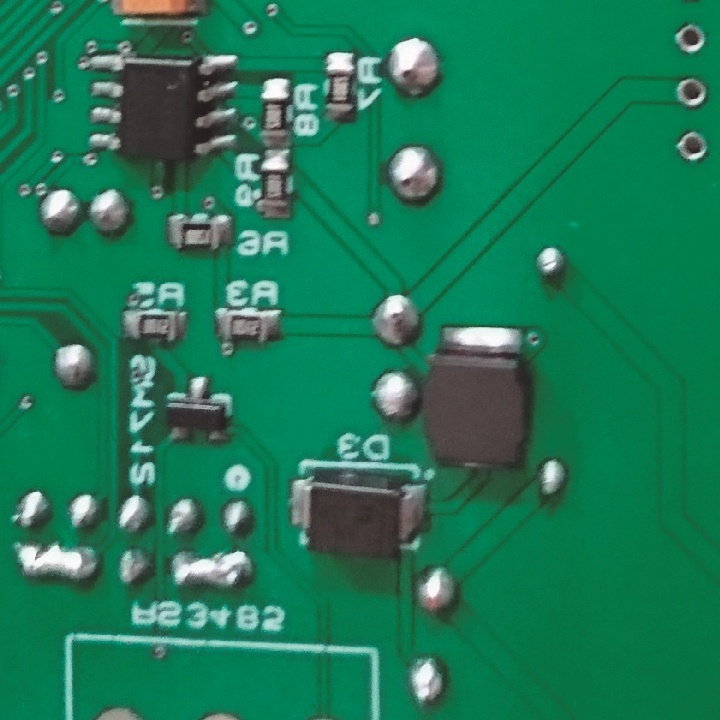F: (671, 127, 710, 166), (674, 71, 710, 112), (670, 21, 710, 56)
P: (169, 545, 253, 595), (15, 540, 98, 587)
